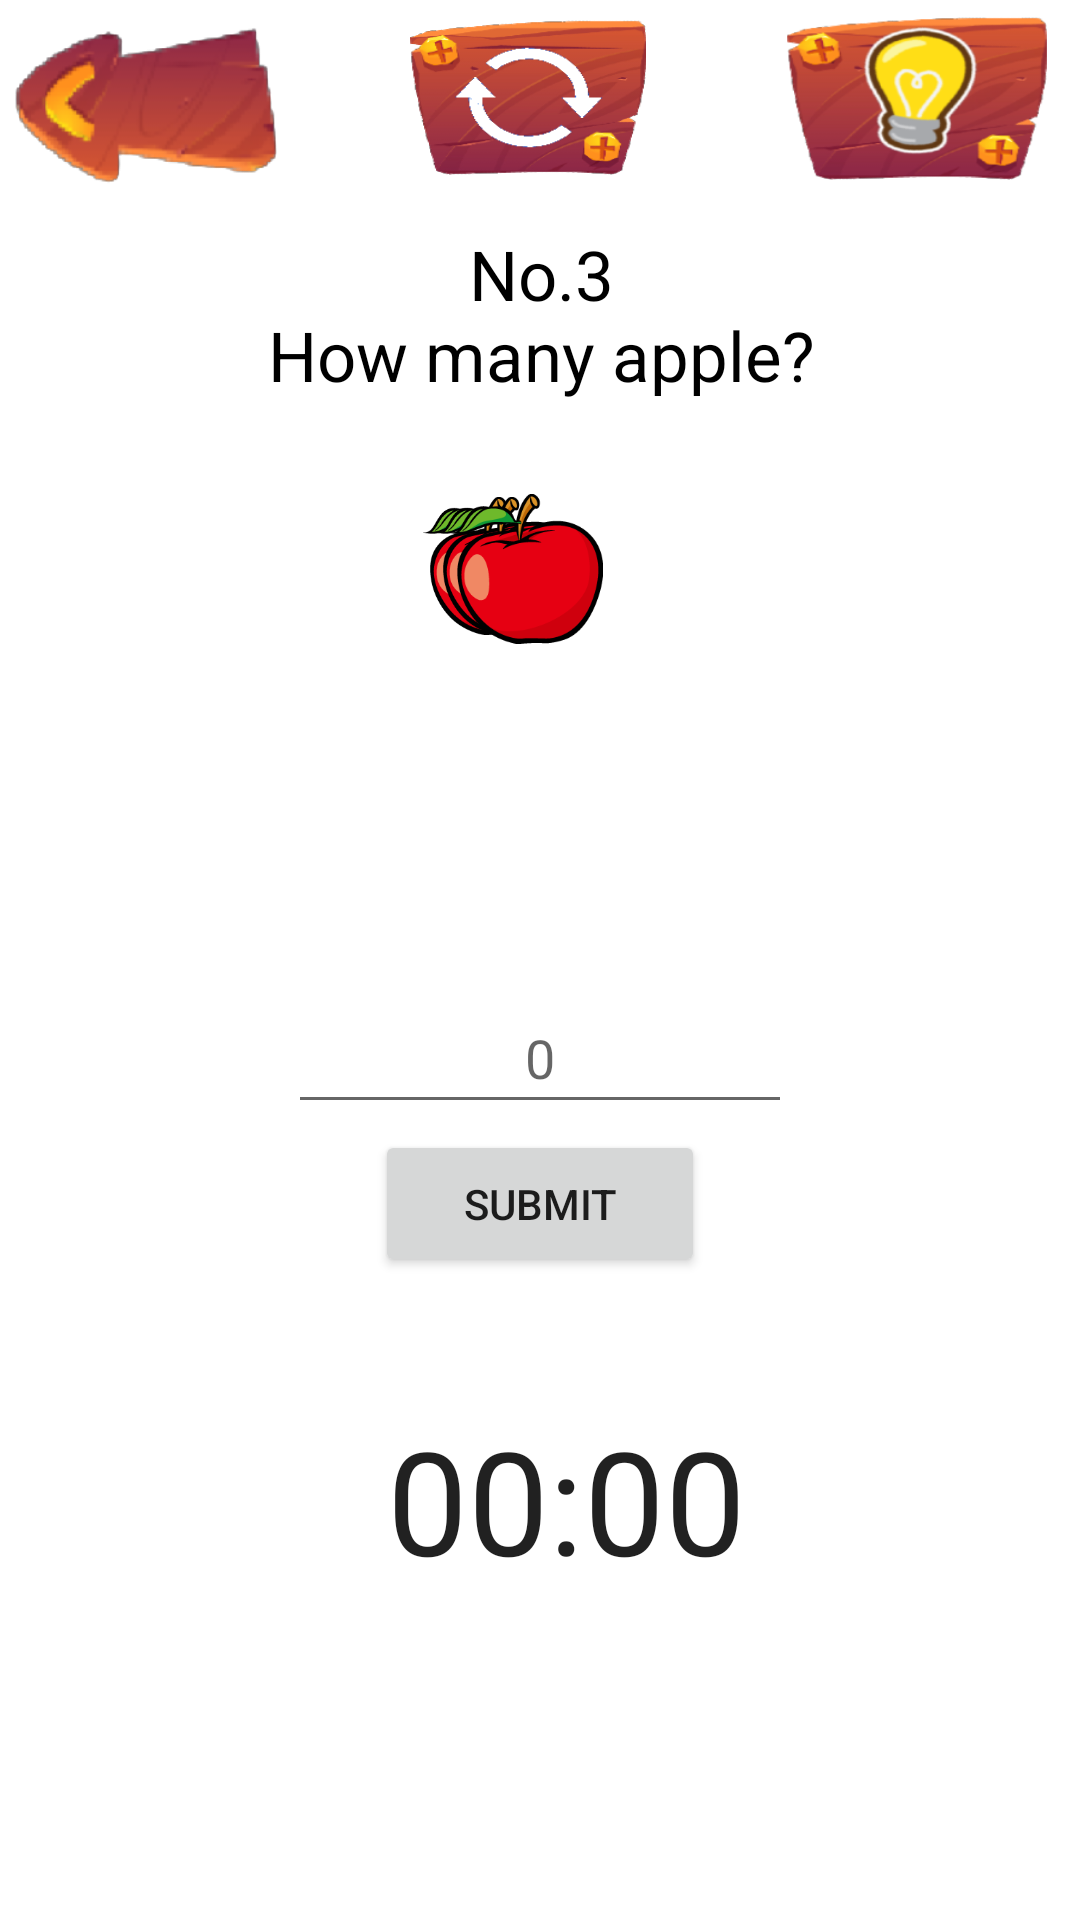

Icons on this 1080*1920 Android screen, each with the point to tap as point (x, y):
hint: point (917, 99)
restart: point (528, 98)
